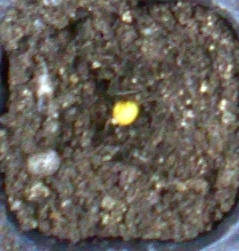pepper seed: (42, 36, 181, 164)
